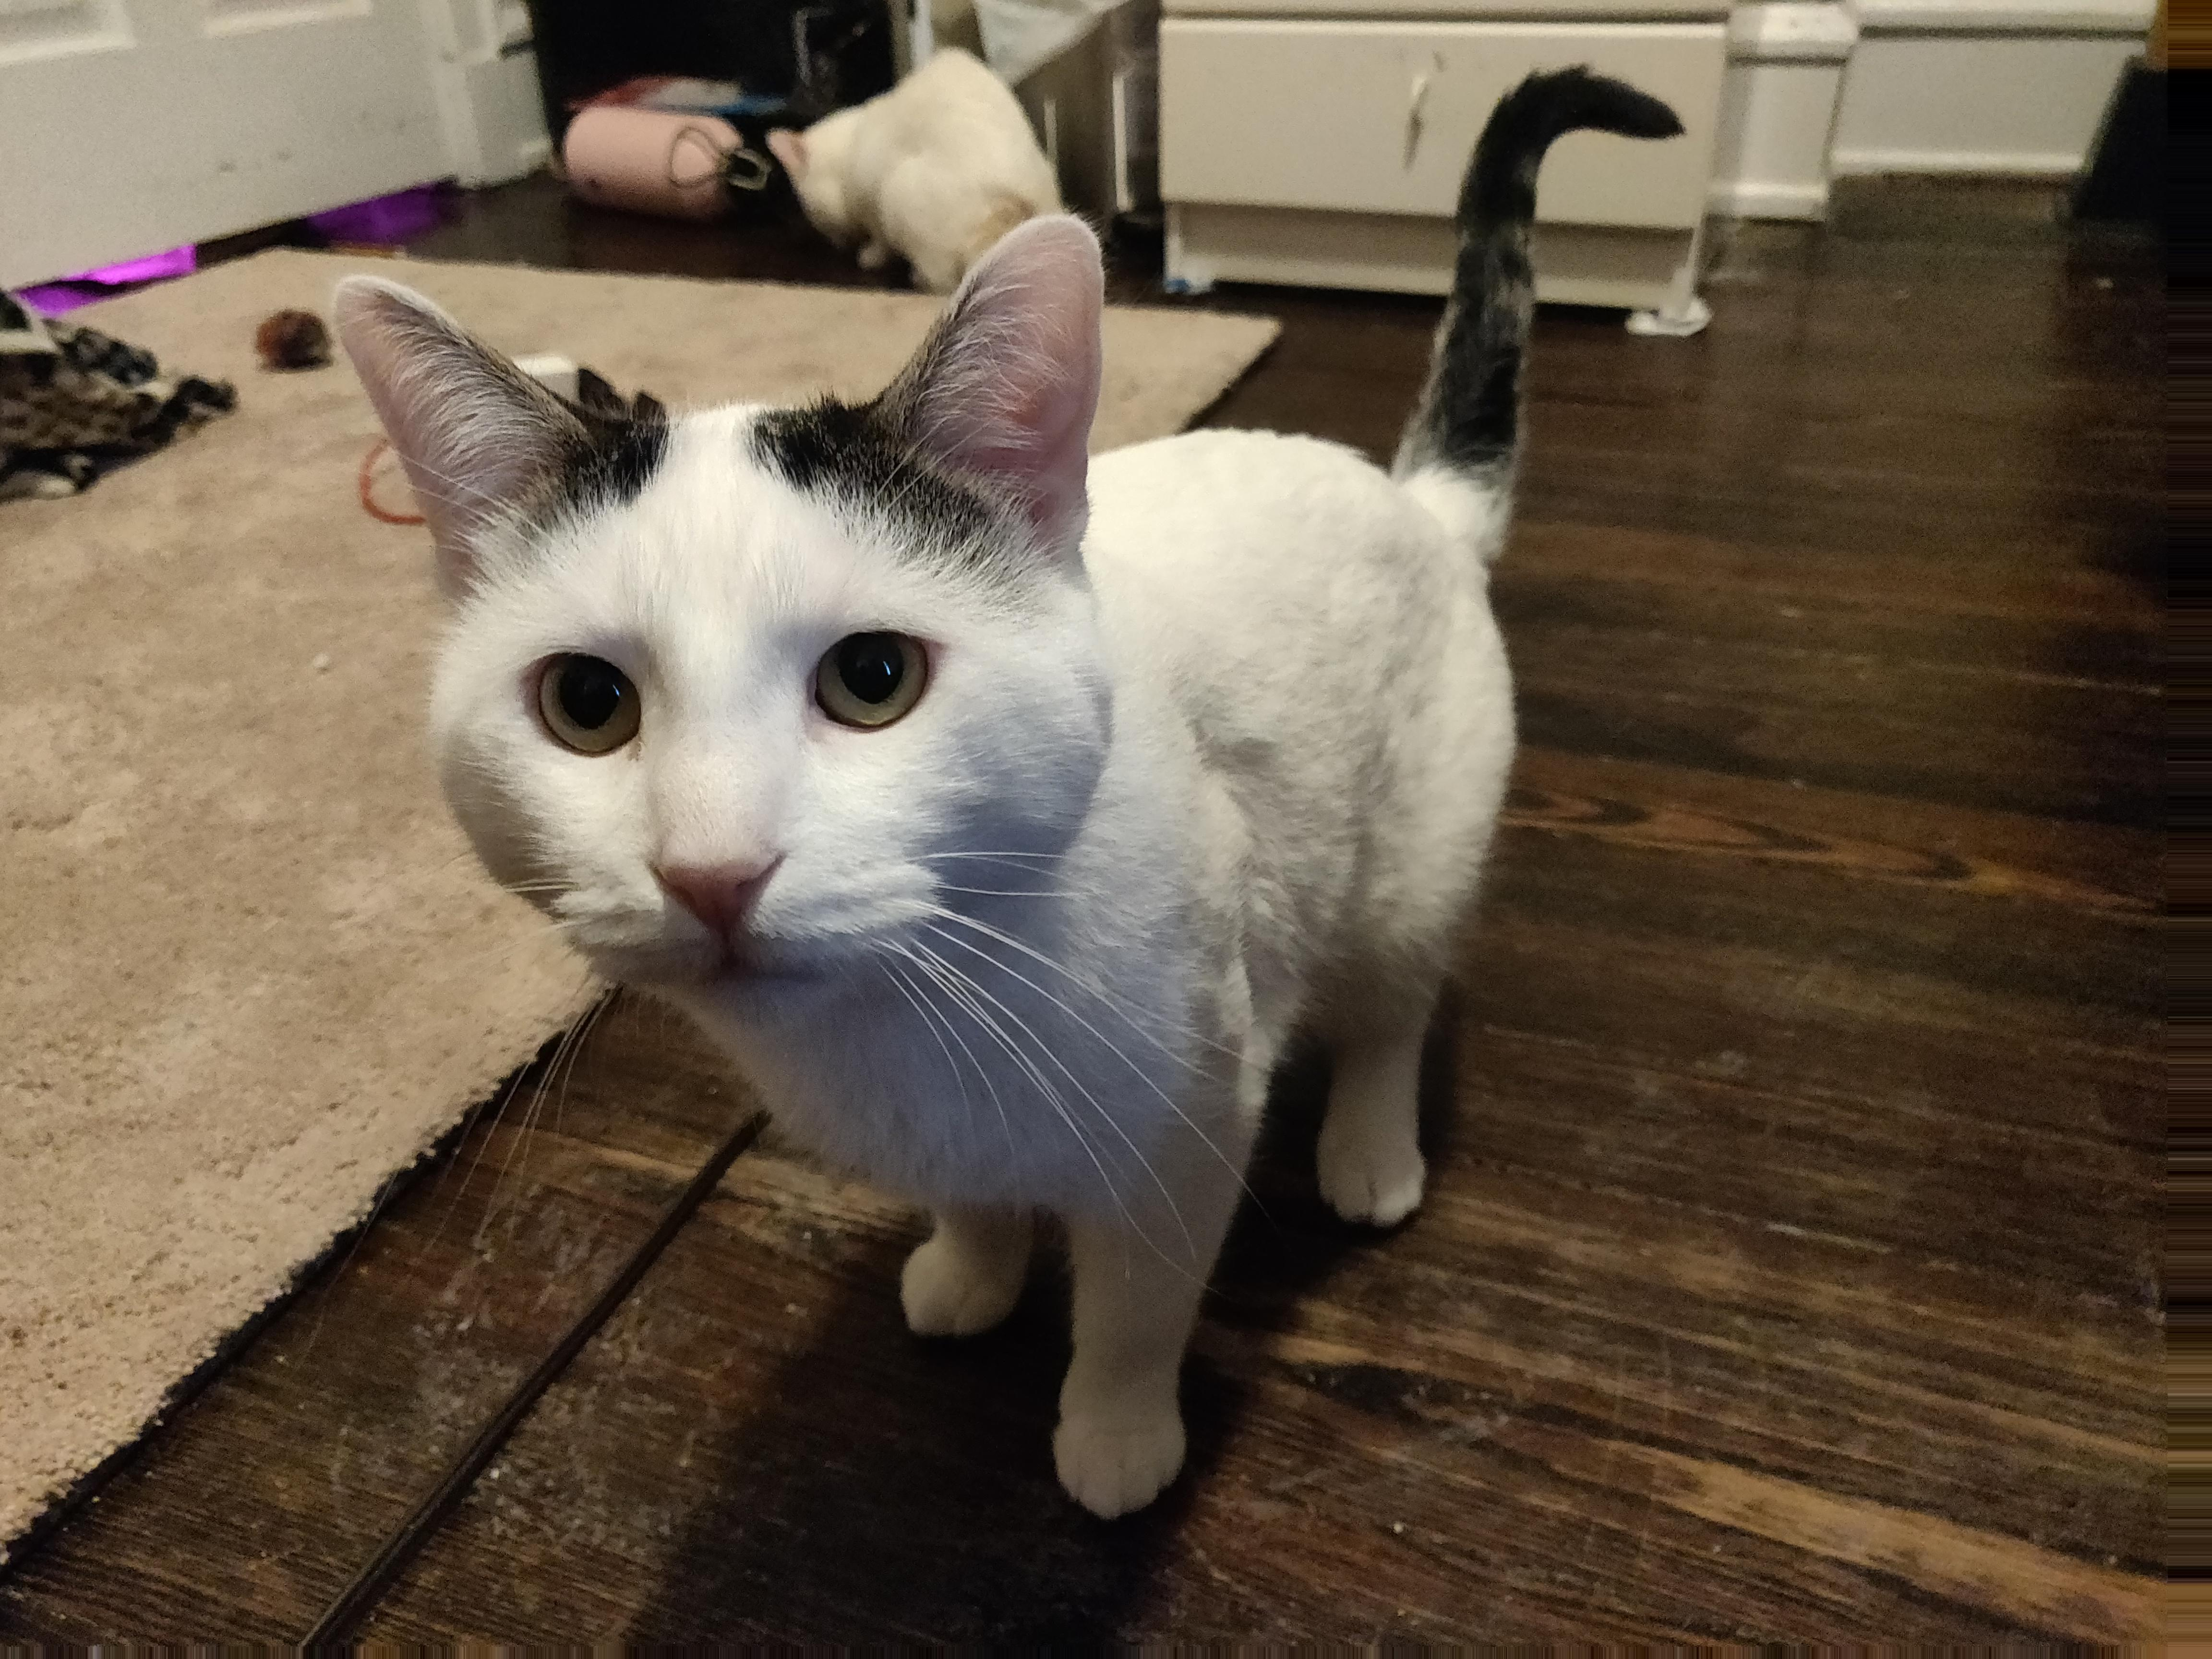cat: (322, 203, 1531, 1508)
